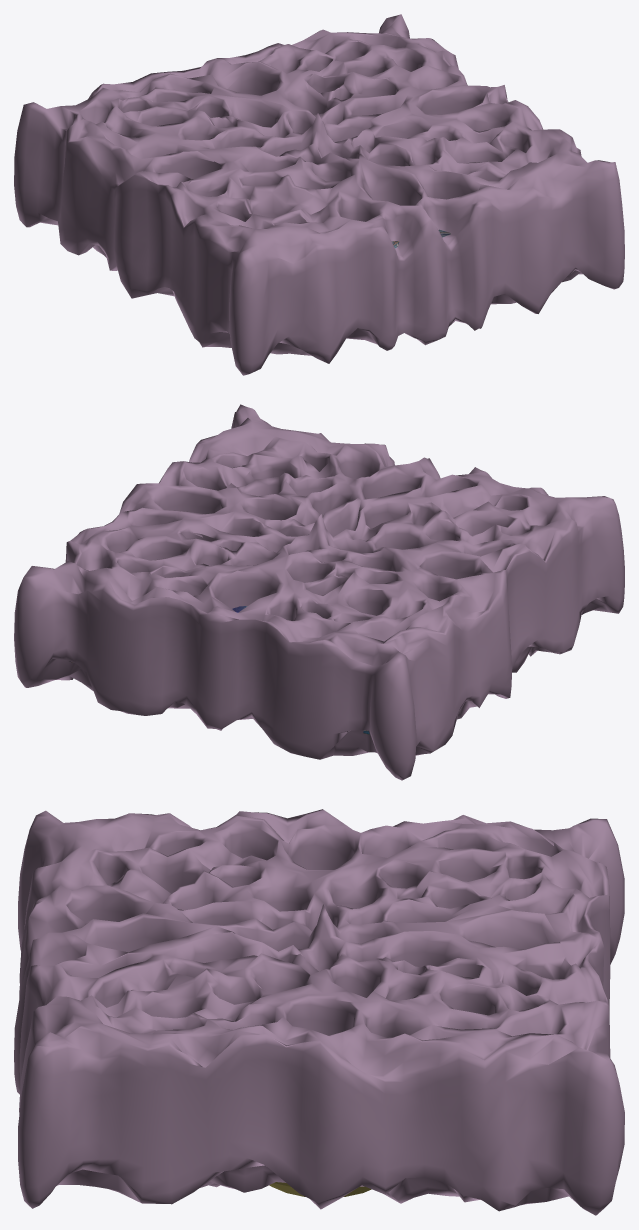
File: tile5Pre.glb
3 views of the same model, one above another, from view 1: azimuth 30°, elevation 25°; view 2: azimuth 150°, elevation 25°; view 3: azimuth 270°, elevation 25° (orthographic). The views are drawn at different scales.
Parts seen in each view (by area): view 1: tile1_tile2; view 2: tile1_tile2; view 3: tile1_tile2.
Part boxes in pixels (bbox=[...]): tile1_tile2: bbox=[14, 14, 624, 375]; tile1_tile2: bbox=[14, 404, 624, 780]; tile1_tile2: bbox=[14, 809, 624, 1215].
Size of the model in its own units: 1.08 by 0.5262 by 1.1.
Materials: 3 (3 with a texture image).
